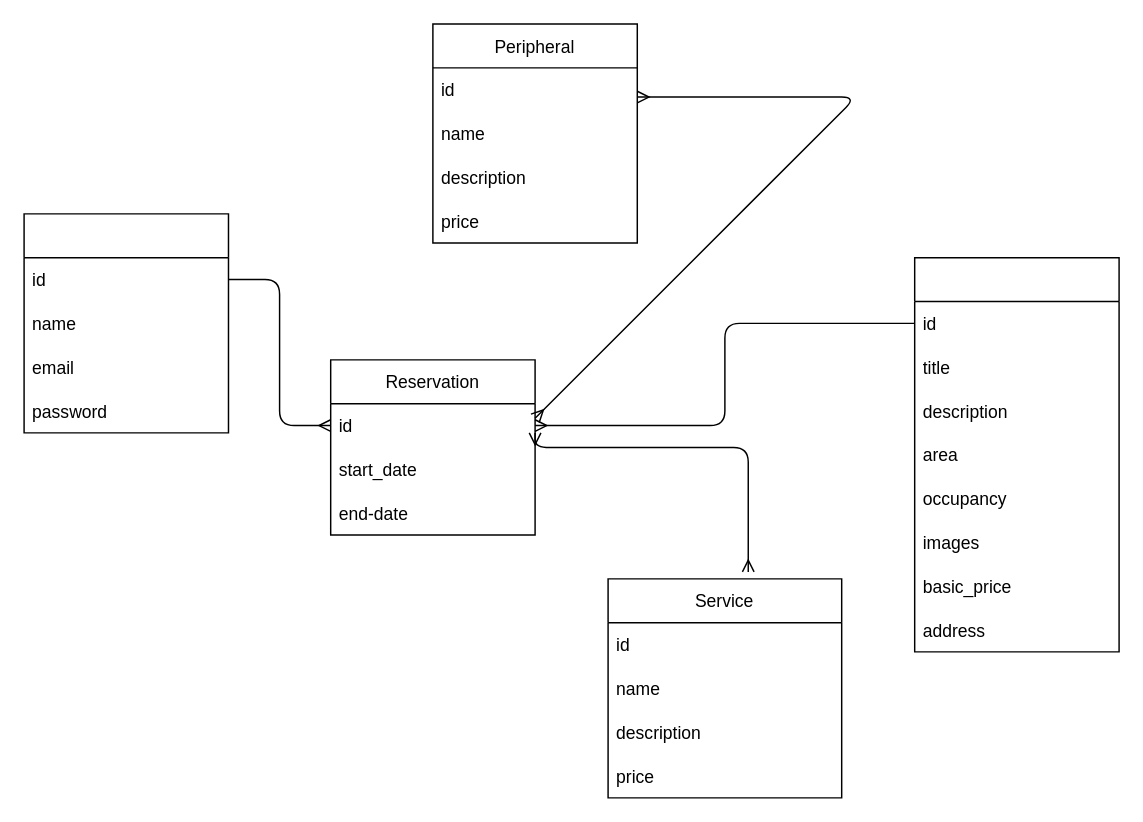
Some shapes in this 1143 by 822 pixel diagram are drawn without their labels. Here are the shapes that lost their labels. From the top down, the box of each, then its label:
(23, 212, 228, 433): User
(913, 256, 1119, 652): Office
